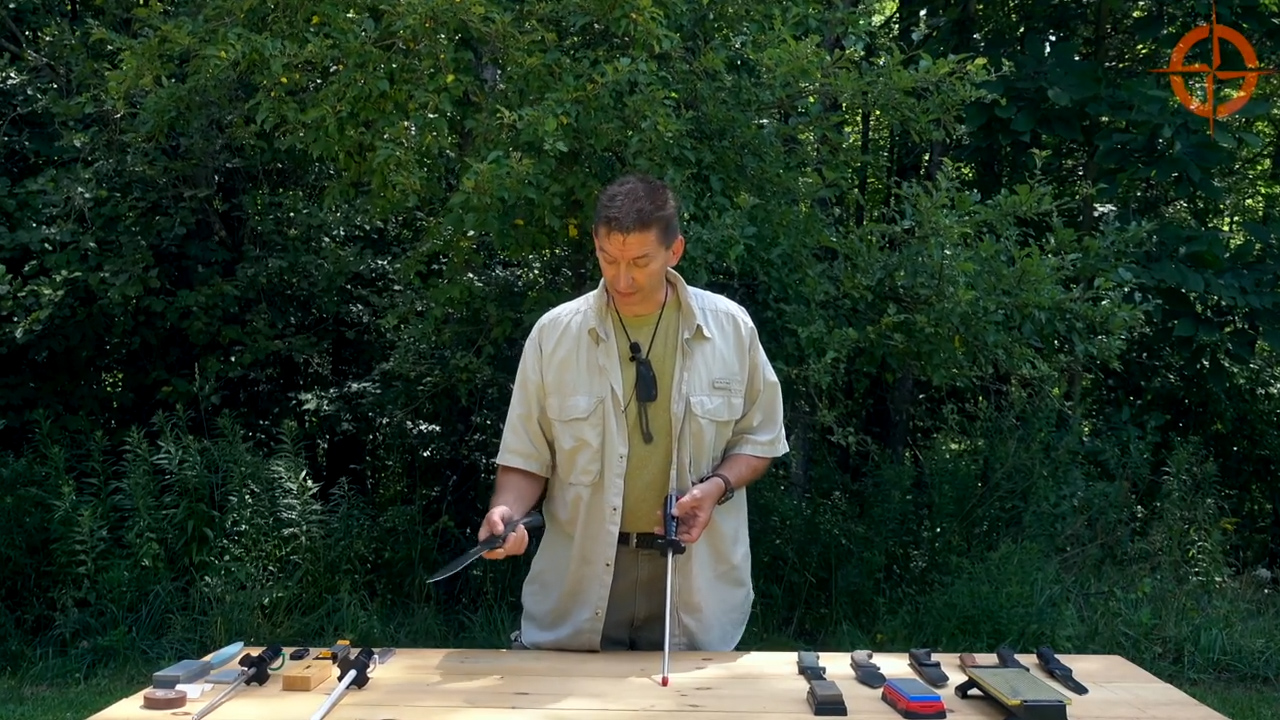knife: (421, 514, 530, 586)
